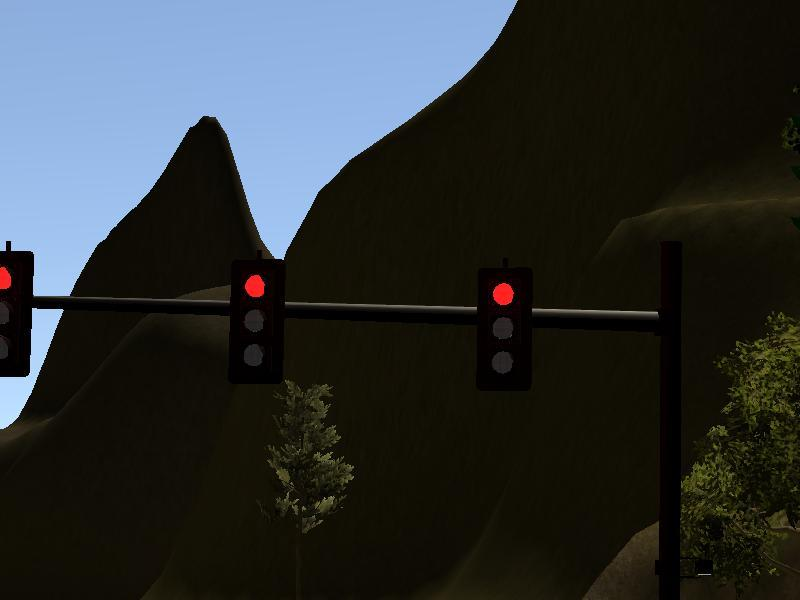Red: (227, 260, 283, 383), (476, 269, 532, 392), (1, 251, 31, 376)
